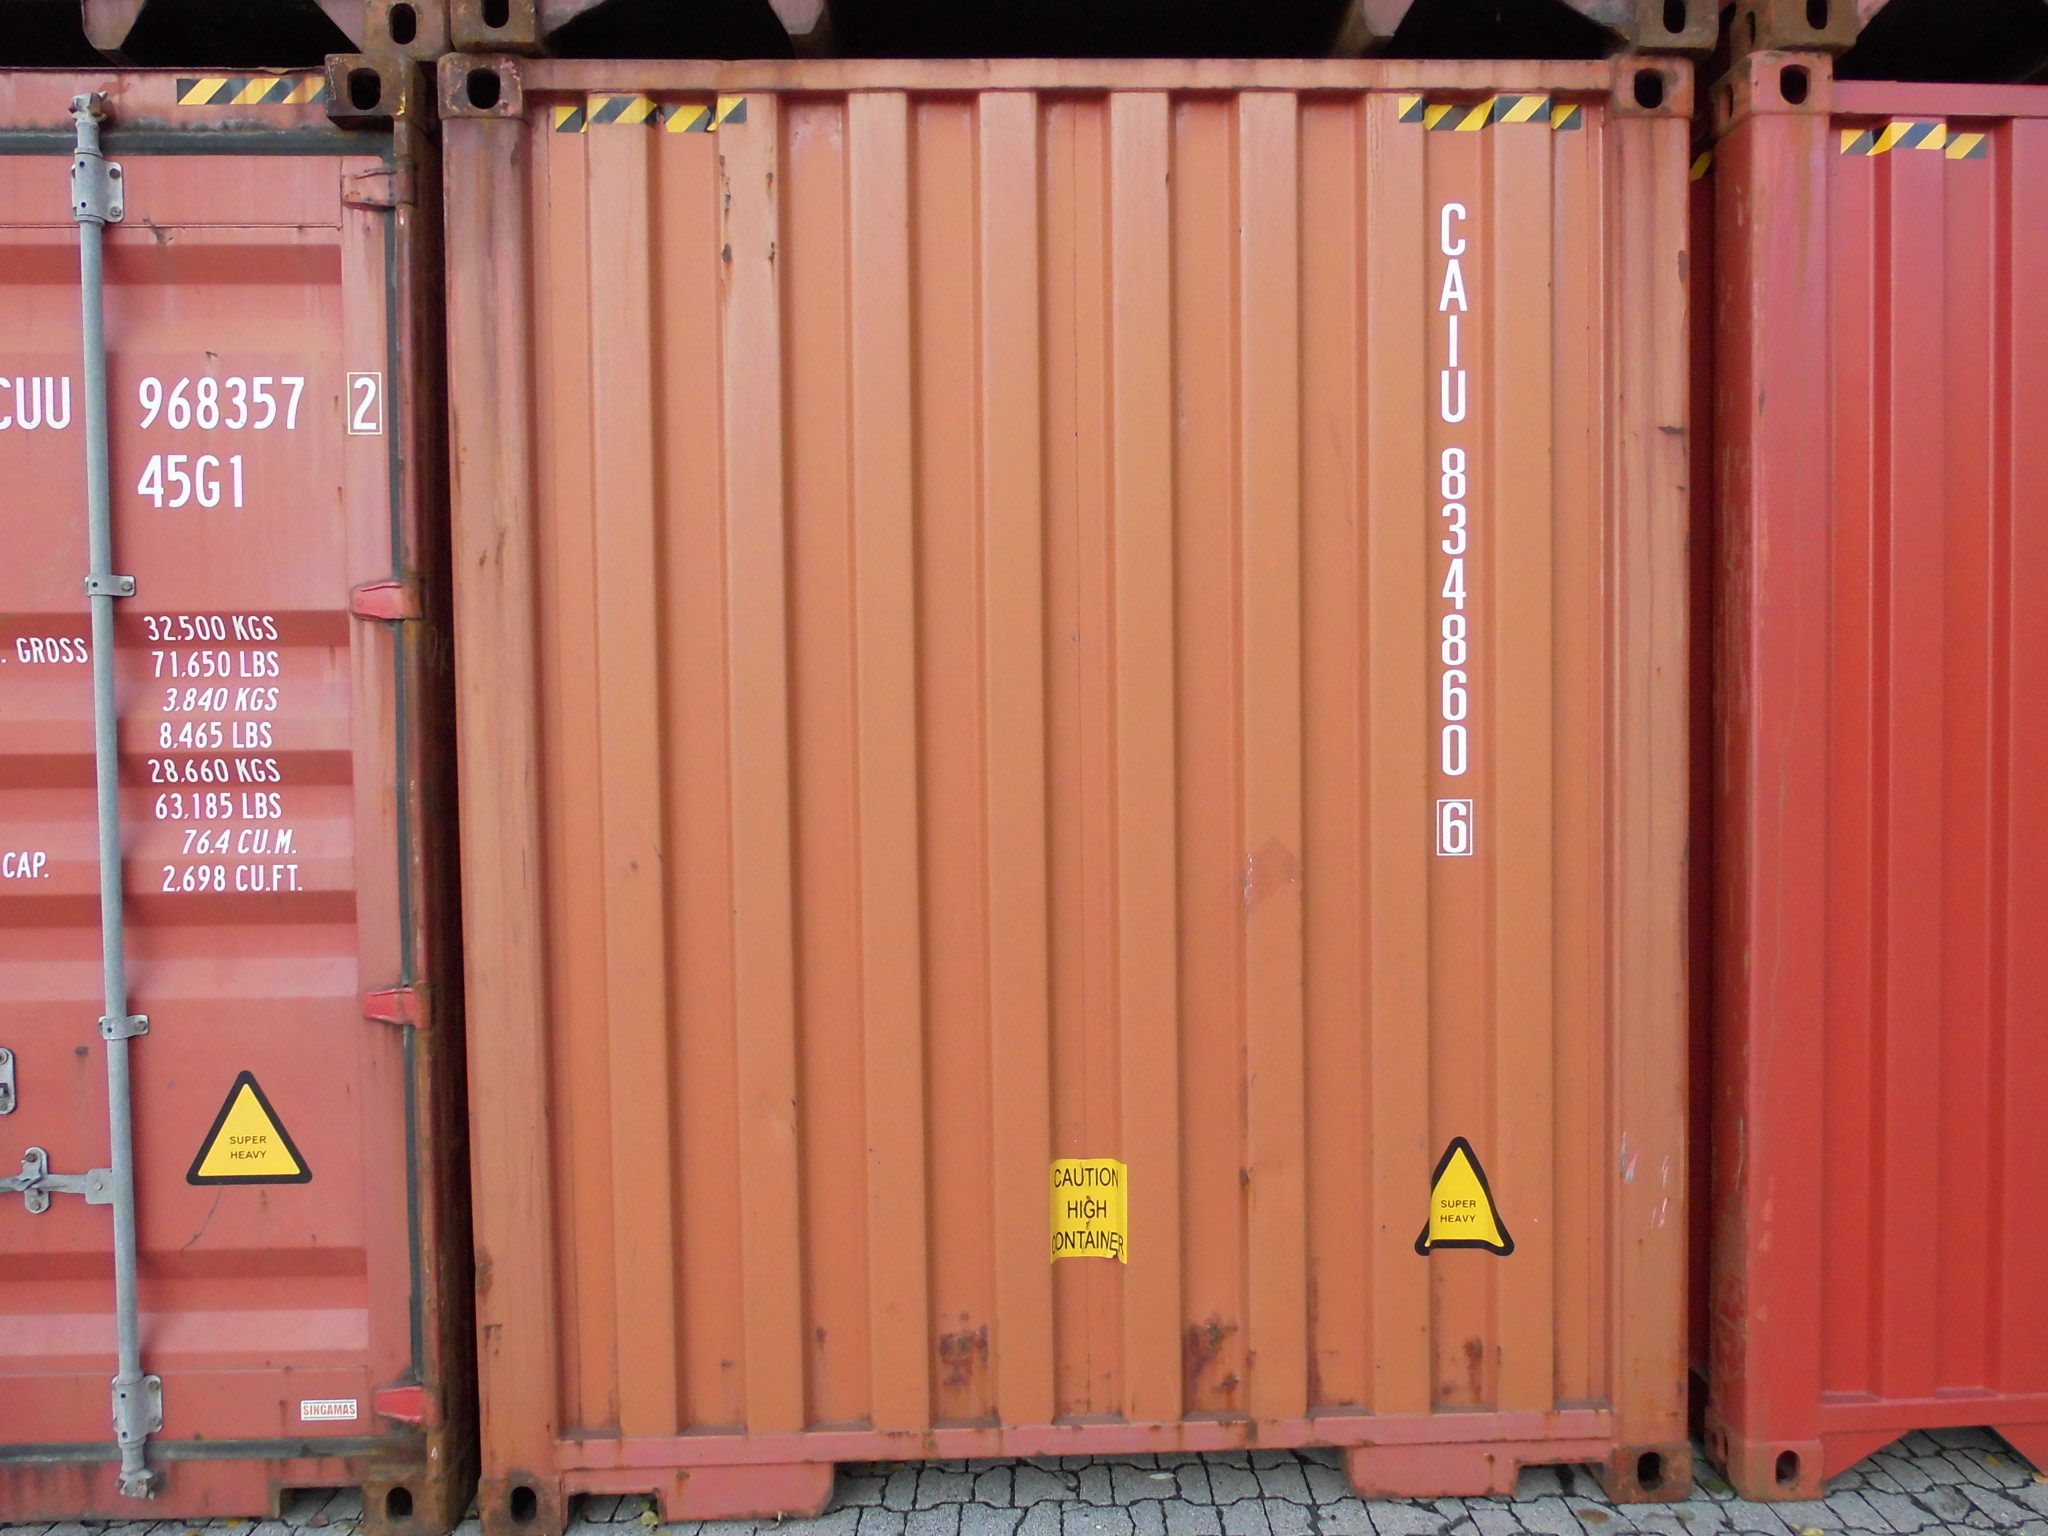container_no_door: (439, 39, 1705, 1523)
